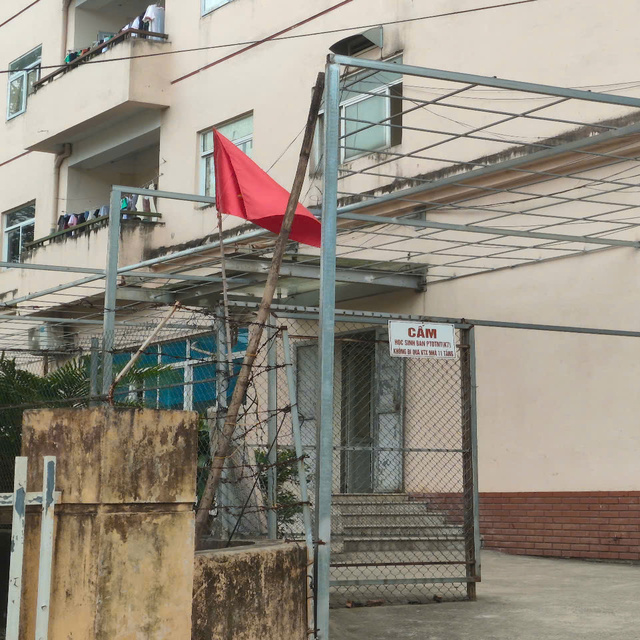laco: (203, 124, 336, 262)
